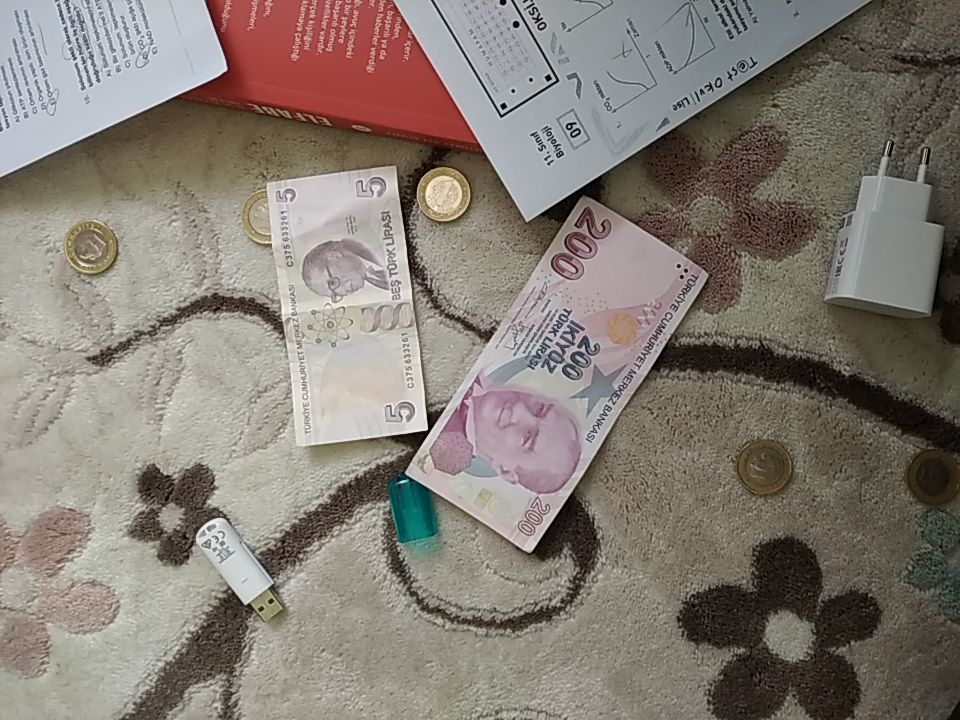200TL: (404, 195, 710, 554)
5TL: (266, 164, 429, 448)
